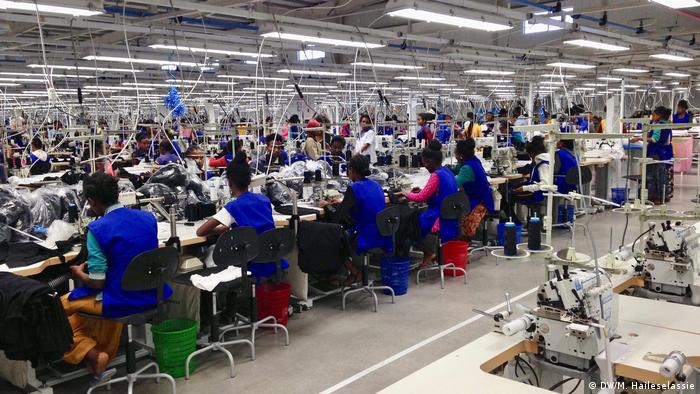person: (60, 173, 174, 379), (197, 154, 289, 283), (396, 141, 464, 276), (315, 154, 391, 249), (443, 138, 496, 252), (502, 139, 556, 225), (630, 105, 673, 202), (553, 136, 583, 220), (248, 134, 299, 173), (359, 115, 384, 166), (320, 137, 351, 172), (414, 112, 434, 146), (671, 101, 697, 126)
